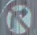Don't turn right: (3, 1, 33, 34)
